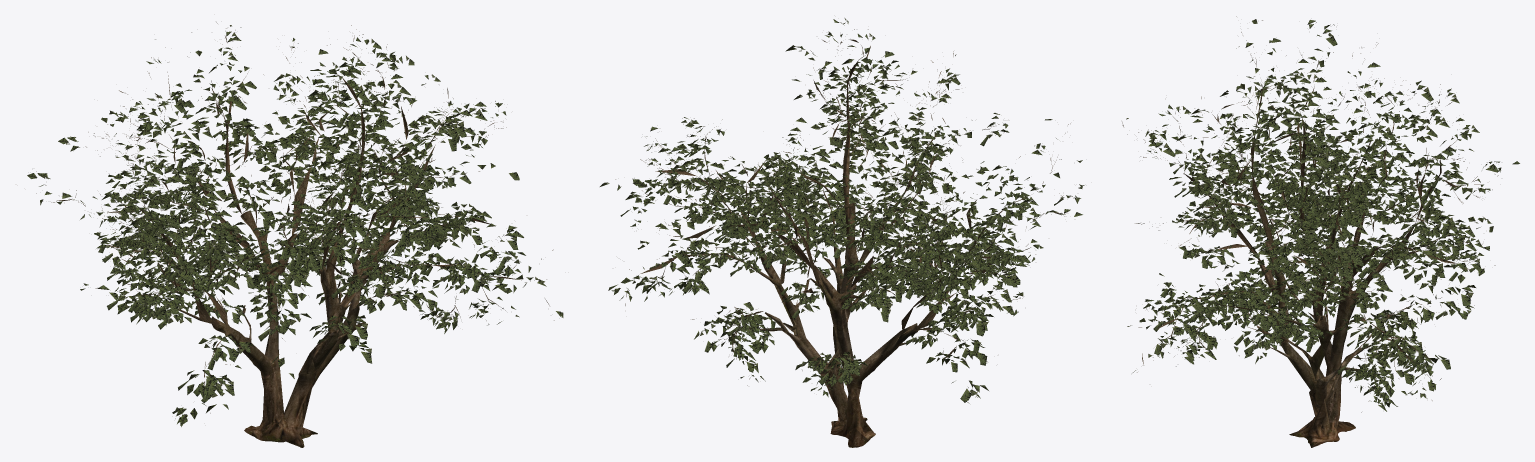
The model's file is jacaranda_tree.glb.
3 views of the same model, side by side, from view 1: azimuth 30°, elevation 25°; view 2: azimuth 150°, elevation 25°; view 3: azimuth 270°, elevation 25° (orthographic). The views are drawn at different scales.
Parts seen in each view (by area): view 1: jacaranda_tree_LOD0; view 2: jacaranda_tree_LOD0; view 3: jacaranda_tree_LOD0.
Boxes of the visible parts, <box> form: jacaranda_tree_LOD0: <box>27,22,563,447</box>; jacaranda_tree_LOD0: <box>600,18,1084,447</box>; jacaranda_tree_LOD0: <box>1122,16,1519,447</box>.
Size of the model in its own units: 23.51 by 19.33 by 18.15.
Materials: 3 (3 with a texture image).
